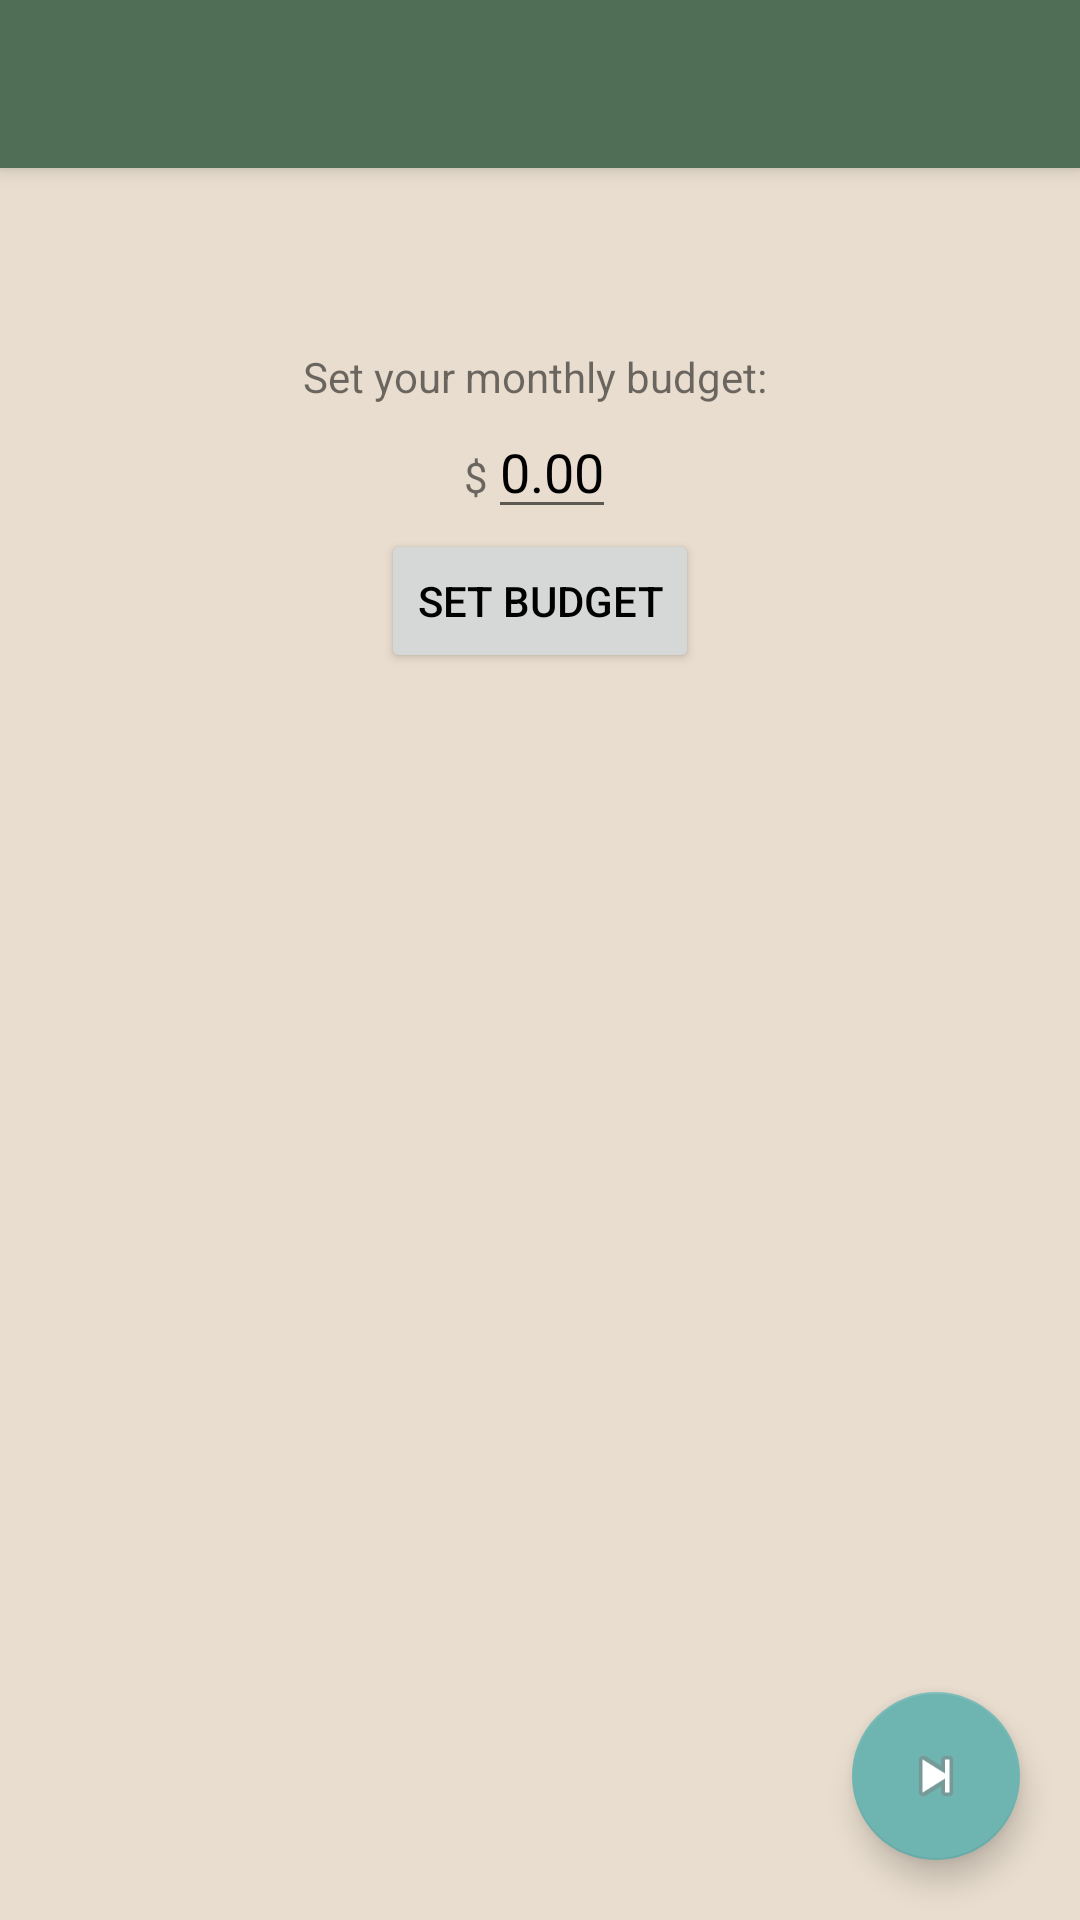

Point at icon controls on the screen. Image size 1080x1920, points as (x,y).
next: (936,1776)
